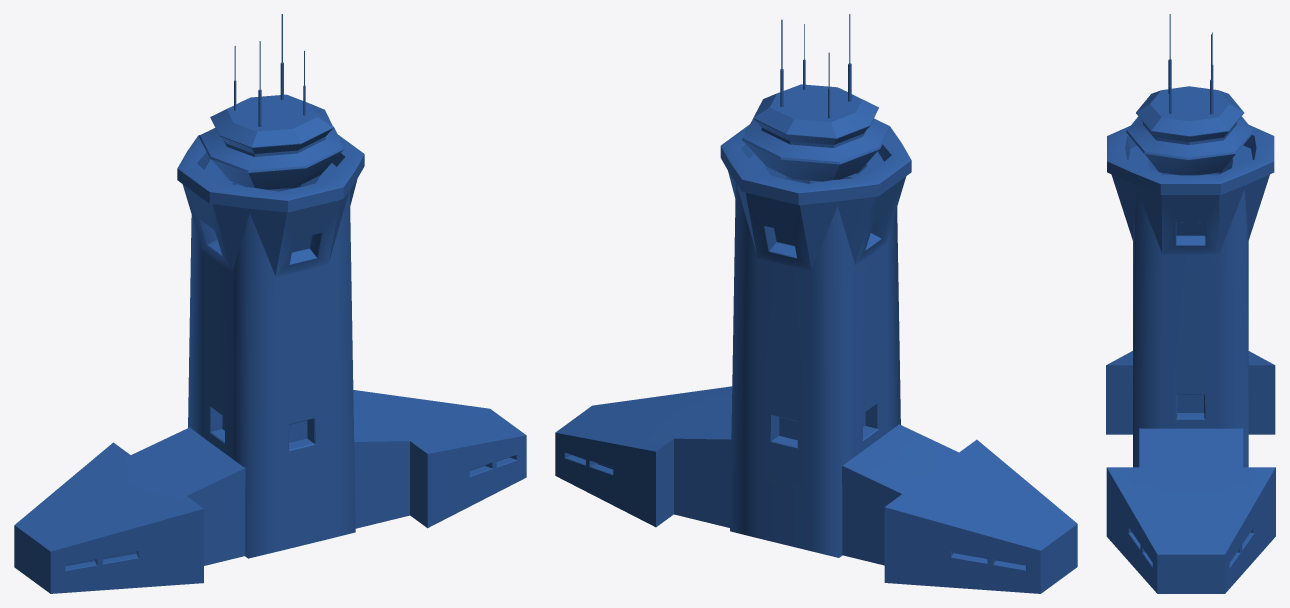
File: collab1.FBX
3 views of the same model, side by side, from view 1: azimuth 30°, elevation 25°; view 2: azimuth 150°, elevation 25°; view 3: azimuth 270°, elevation 25° (orthographic). The views are drawn at different scales.
Parts seen in each view (by area): view 1: Box003; view 2: Box003; view 3: Box003.
Part boxes in pixels (left/top/right/bottom): Box003: left=14, top=14, right=526, bottom=593; Box003: left=555, top=14, right=1077, bottom=593; Box003: left=1106, top=14, right=1275, bottom=593.
Bounding box in the file's own units: 211 × 210 × 69.92.
